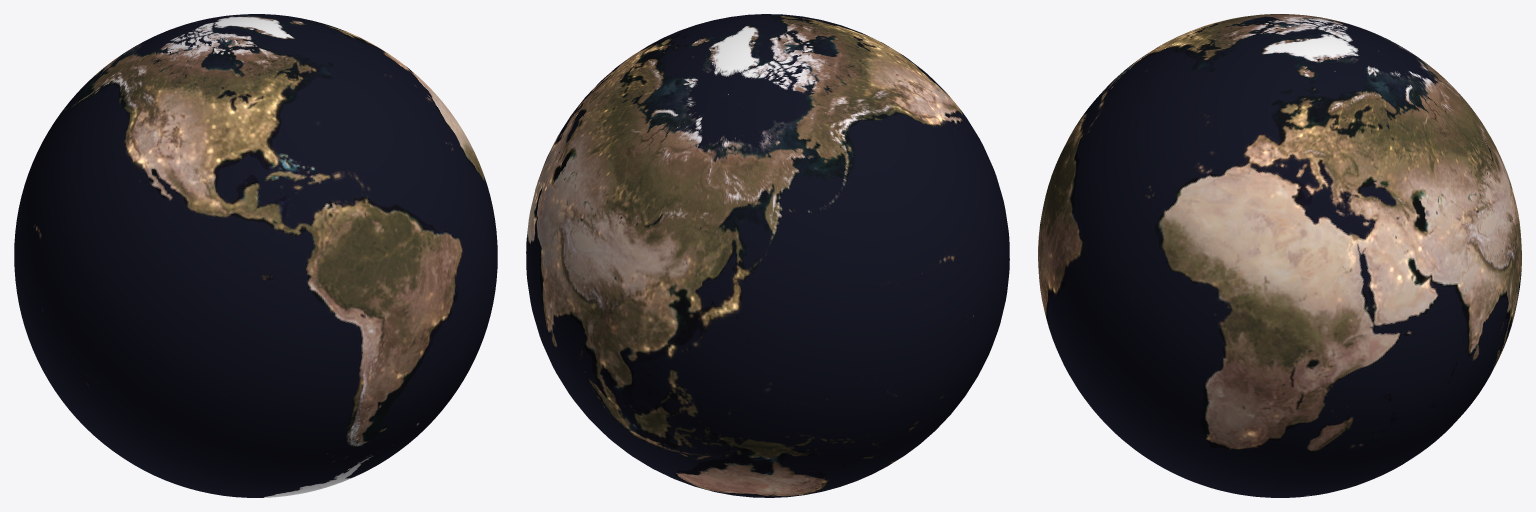
Rendered from earth1.glb.
3 renders of one model, left to right at view 1: azimuth 30°, elevation 25°; view 2: azimuth 150°, elevation 25°; view 3: azimuth 270°, elevation 25°, orthographic.
Parts seen in each view (by area): view 1: Clouds_3; view 2: Clouds_3; view 3: Clouds_3.
Boxes of the visible parts, x1,y1,x2,y2 form: Clouds_3: (14, 14, 497, 497); Clouds_3: (526, 14, 1009, 497); Clouds_3: (1038, 14, 1521, 497).
Bounding box in the file's own units: 0.6376 × 0.638 × 0.6379.
2 materials, 1 textured.
